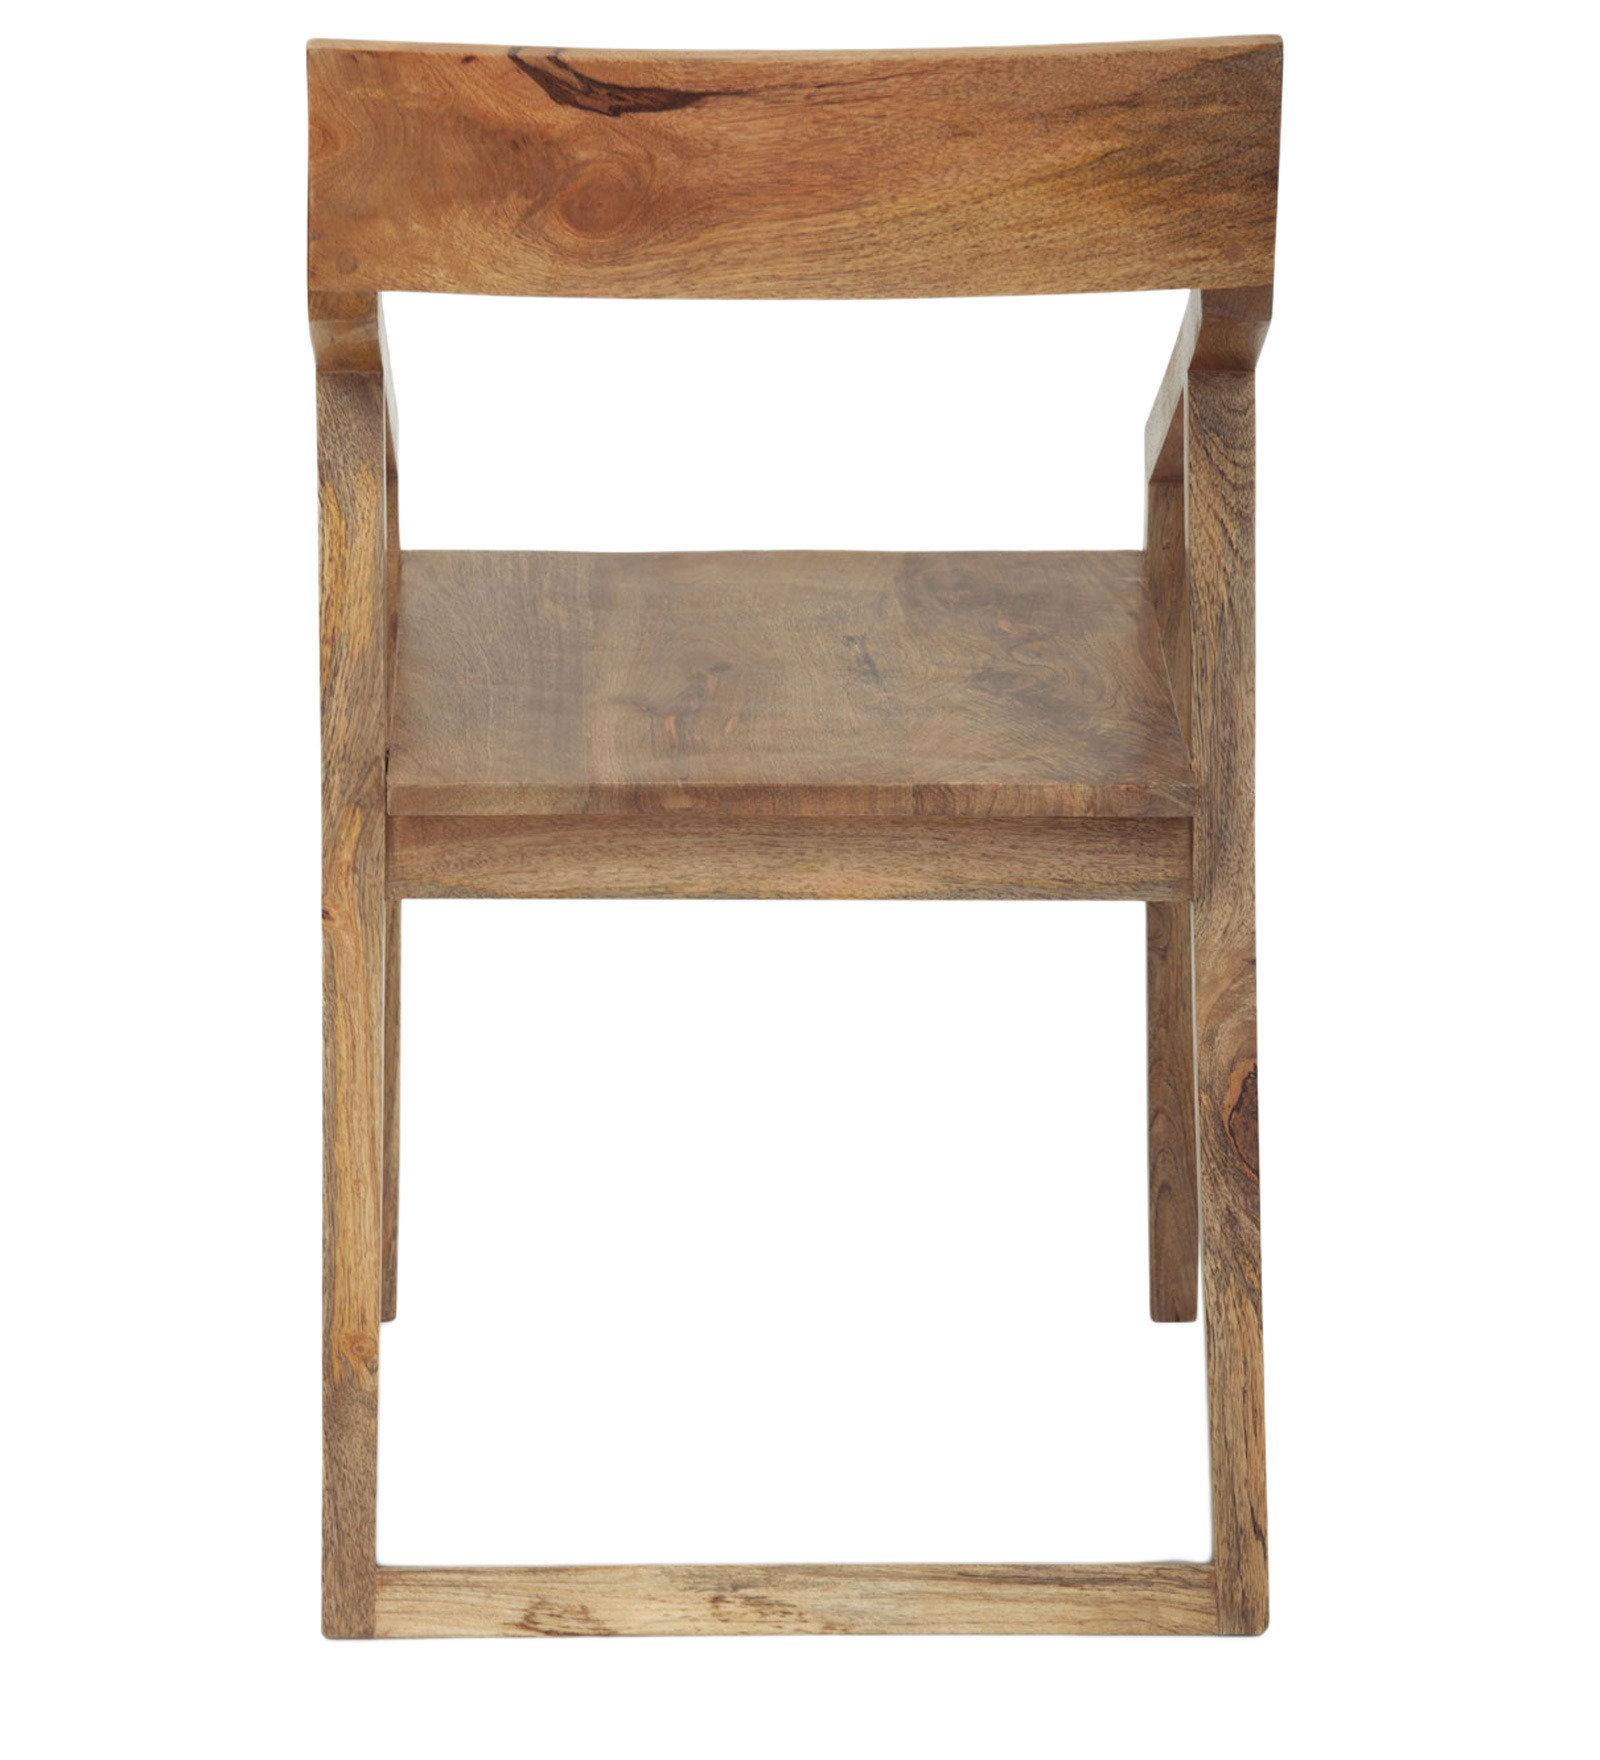Dulwich Solid Wood Arm Chair in Natural Finish by TheArmchair: (187, 23, 1430, 1720)
